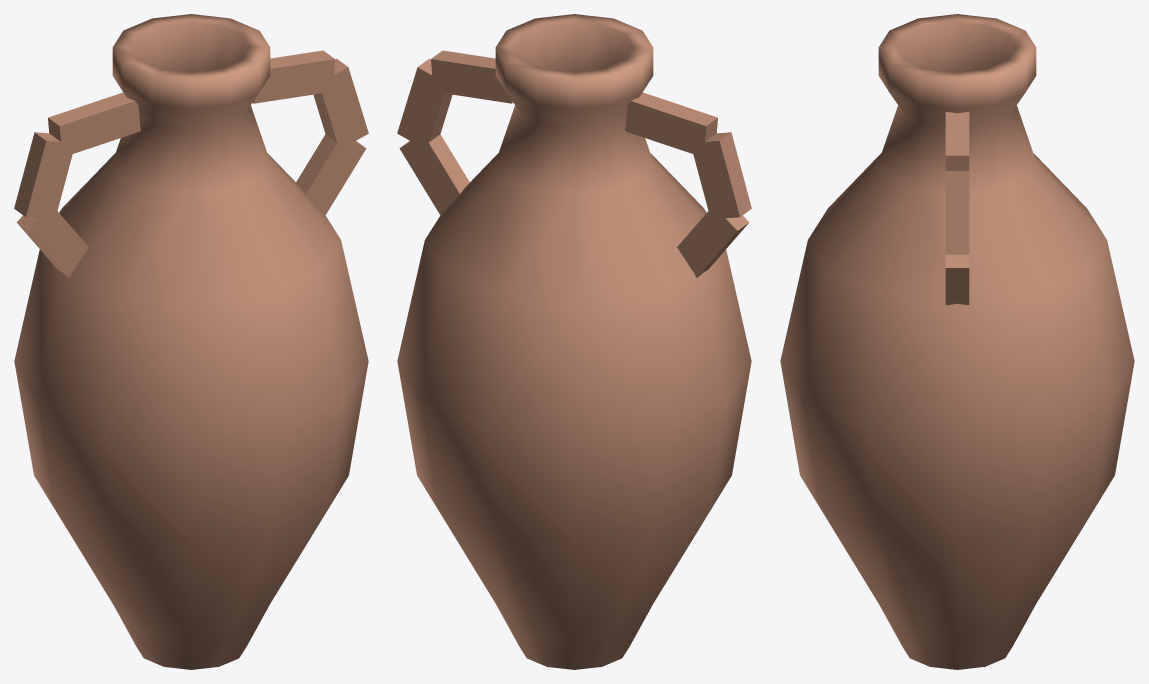
The model's file is SM_BM_BP_Amphora.glb.
3 views of the same model, side by side, from view 1: azimuth 30°, elevation 25°; view 2: azimuth 150°, elevation 25°; view 3: azimuth 270°, elevation 25° (orthographic).
Visible parts, largest first — view 1: SM_BM_BP_Amphora; view 2: SM_BM_BP_Amphora; view 3: SM_BM_BP_Amphora.
Part boxes in pixels (x1,y1,x2,y2): SM_BM_BP_Amphora: (14,14,368,669); SM_BM_BP_Amphora: (397,14,751,669); SM_BM_BP_Amphora: (780,14,1134,669).
Bounding box in the file's own units: 0.5031 × 0.84 × 0.45.
